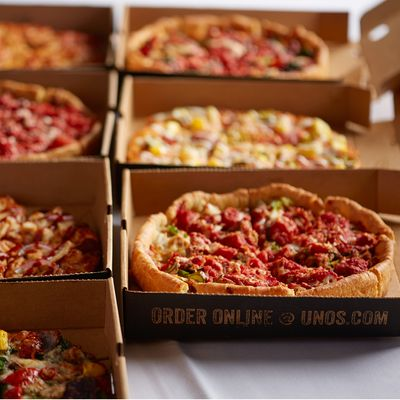sandwich: (129, 183, 398, 298), (119, 106, 359, 167), (125, 13, 332, 80), (0, 194, 103, 279), (0, 80, 101, 163)
